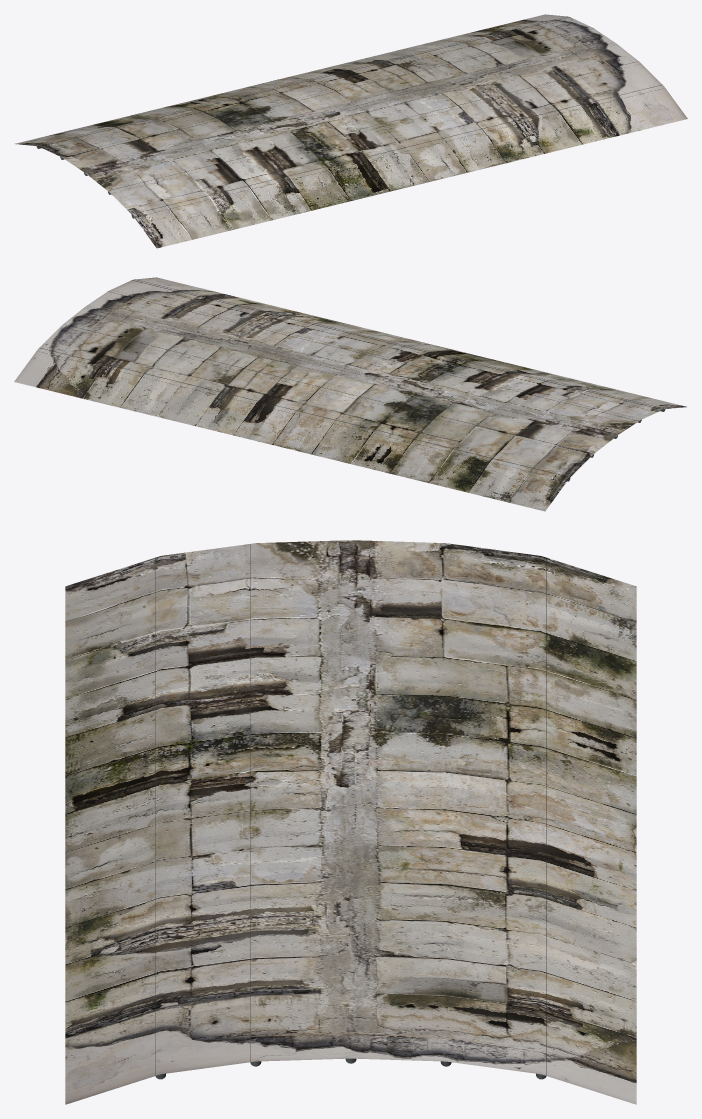
File: R3_Ceiling.FBX
The picture shows the model from 3 angles, top to bottom: view 1: azimuth 30°, elevation 25°; view 2: azimuth 150°, elevation 25°; view 3: azimuth 270°, elevation 25°; orthographic projection. The views are drawn at different scales.
Parts seen in each view (by area): view 1: R3_Ceiling; view 2: R3_Ceiling; view 3: R3_Ceiling.
Boxes of the visible parts, x1=… form: R3_Ceiling: x1=15, y1=14, x2=687, y2=248; R3_Ceiling: x1=14, y1=277, x2=686, y2=511; R3_Ceiling: x1=65, y1=540, x2=636, y2=1104.
Bounding box in the file's own units: 2175 × 90.45 × 1013.
Materials: 2 (2 with a texture image).
